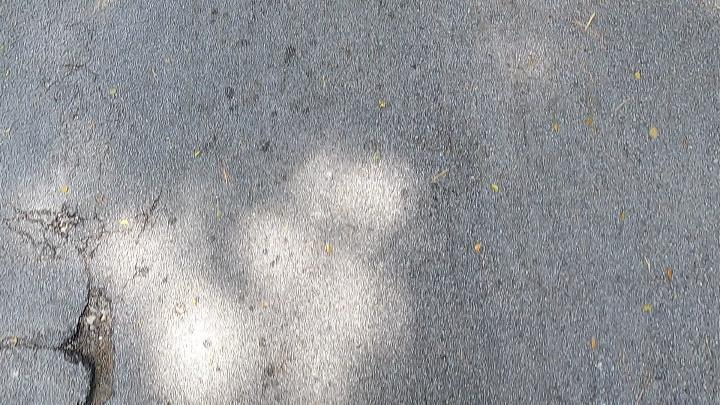Crack: (0, 203, 117, 251), (3, 204, 107, 244)
Pothole: (61, 282, 120, 405), (60, 287, 112, 404)
